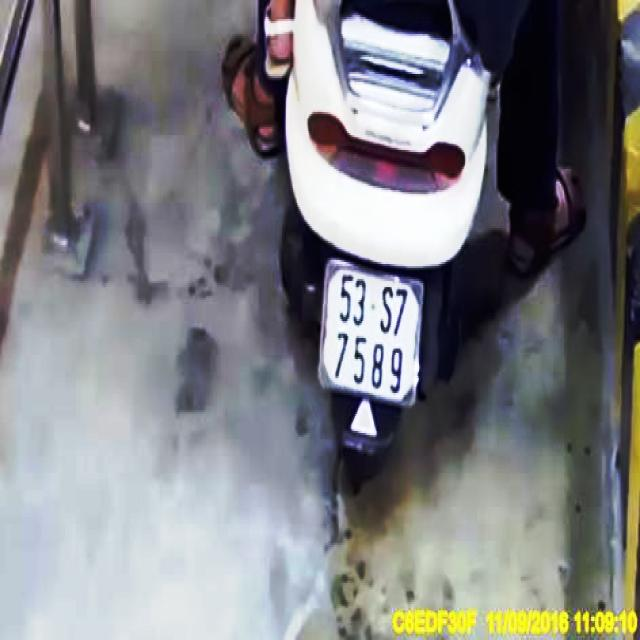license_plate: (321, 264, 424, 409)
